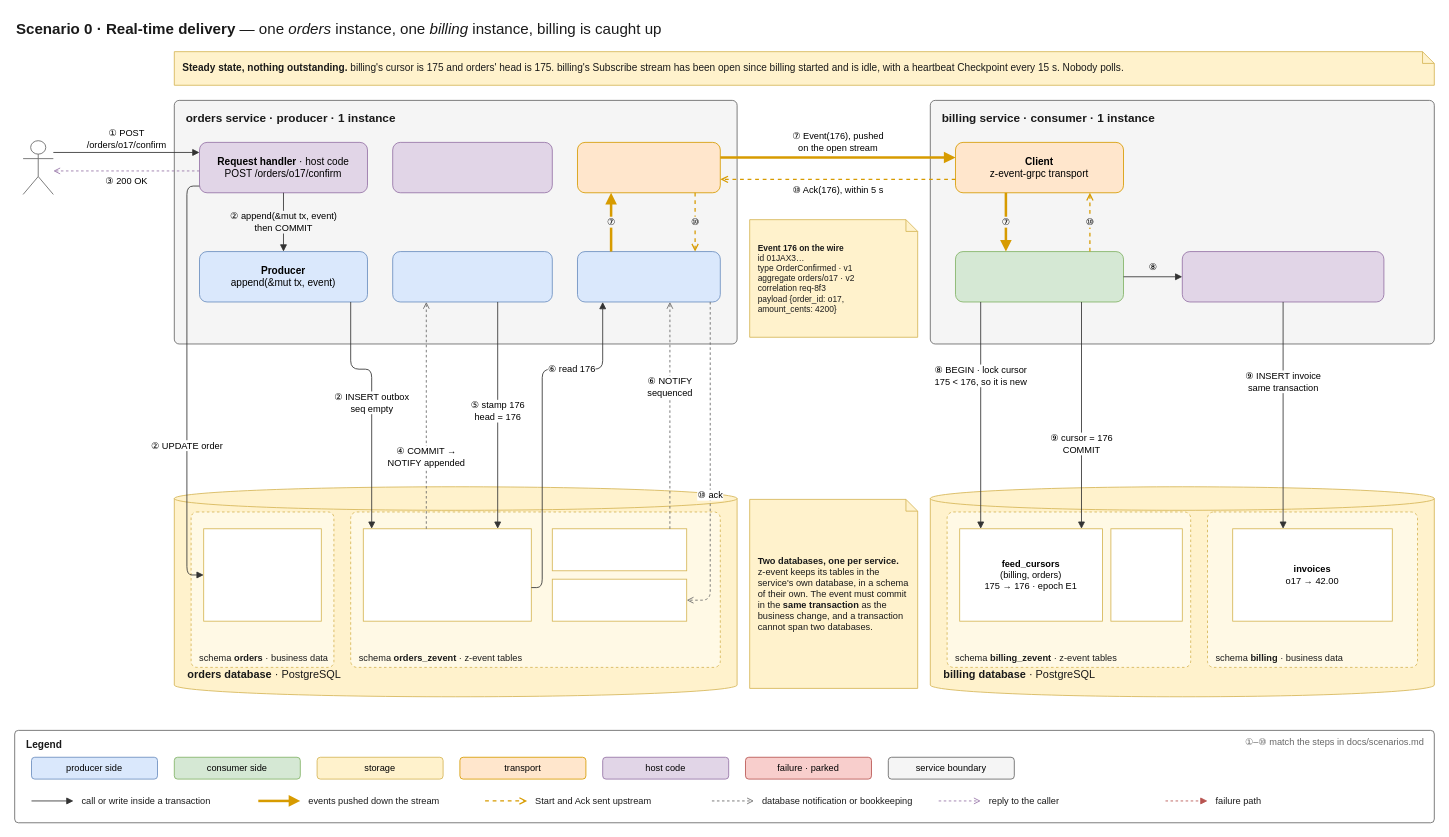
Image size: 1449x837. Some labels were removed from this diagram. Here are the shapes that lost their labels. From the top down, the centre of each, then its label:
At point (37, 167): "User or API client".
At point (472, 167): "Acl (TypeAcl) checked once, when the stream opened".
At point (648, 167): "feed_service z-event-grpc server".
At point (472, 276): "Sequencer holds the lease".
At point (648, 276): "FeedSource billing's open stream".
At point (1039, 276): "Subscriber consumer billing · producer orders".
At point (1282, 276): "Handler CreateInvoice host code".
At point (619, 549): "feed_meta head 175 → 176 · epoch E1".
At point (262, 574): "orders o17 → confirmed version 2".
At point (446, 574): "outbox 176 · OrderConfirmed orders/o17 · v2 seq empty until stamped".
At point (1146, 574): "dead_letters empty".
At point (619, 599): "feed_consumers billing acked 176".
